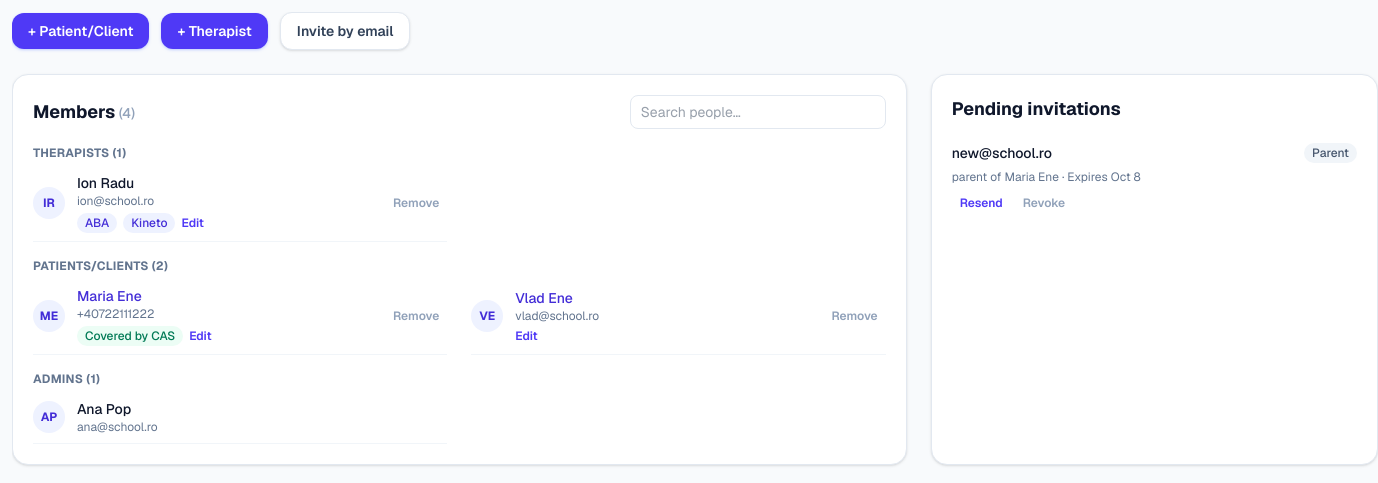
it: People › filters by name or email, and says when nobody matches
The width and height of the screenshot is (1378, 483).
Expected: the text "Ion Radu" is shown, [77,174,134,192]
Type "0722111" into the search field. click: (758, 112)
box: [630,95,886,129]
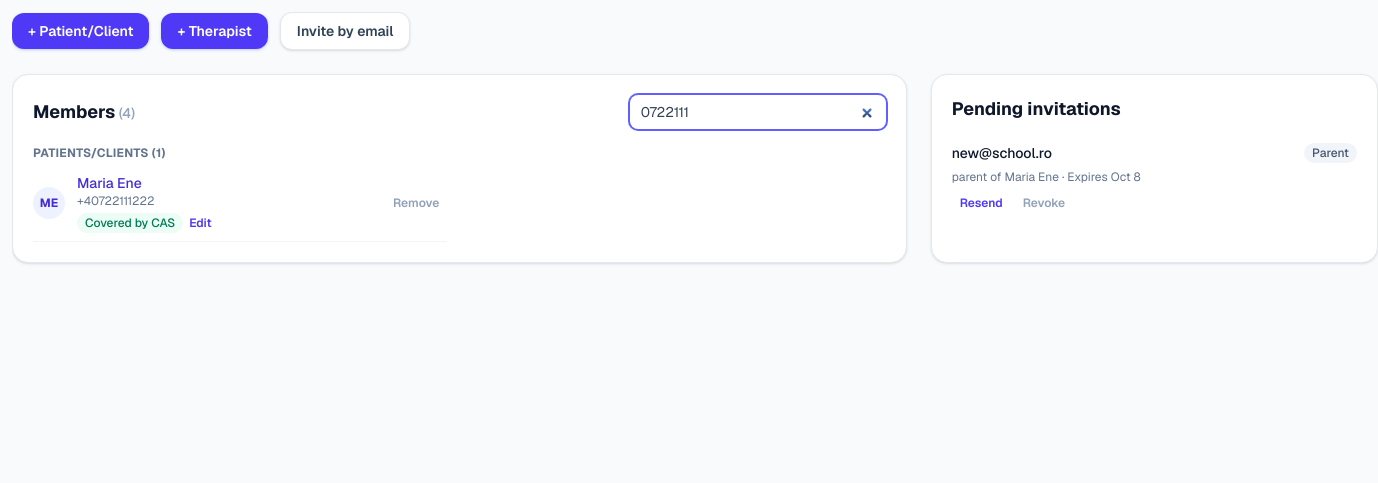
Expected: the link "Maria Ene" is shown, [77,174,142,192]
Now the text "Ion Radu" is gone
Replace the text in the search field with "nobody". click: (758, 112)
box: [630,95,886,129]
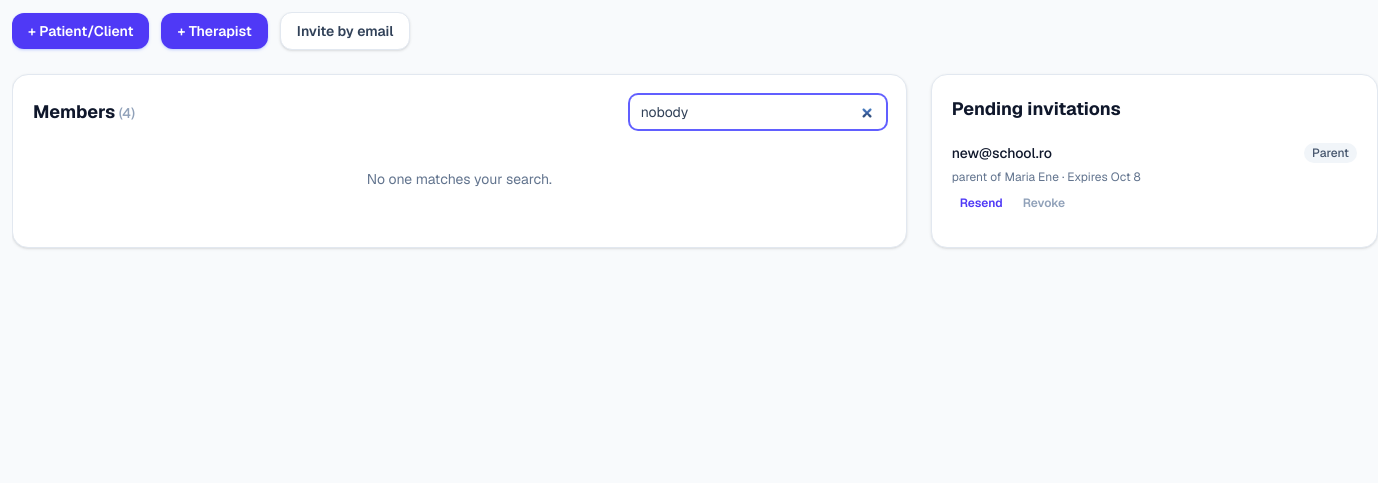
Now the text "No one matches your search." is shown, box [367,170,552,188]
